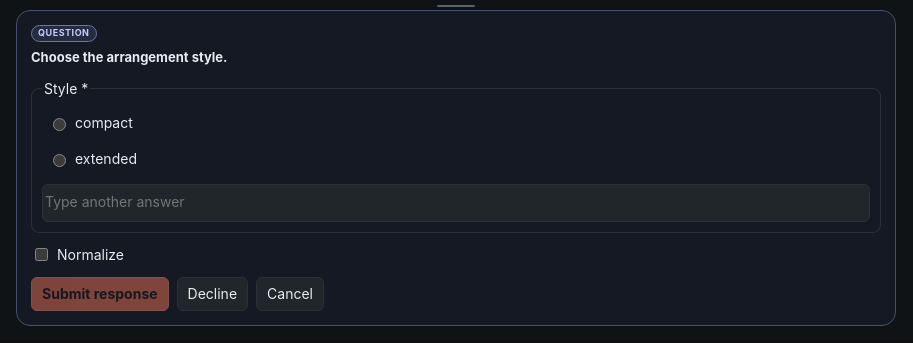
desktop component interactions › prioritizes structured questions and preserves the ordinary composer draft
The width and height of the screenshot is (913, 343).
Expected: the field named "Custom answer for Style" is shown, [42,184,870,222]
Click the radio button labelled "compact": (60, 125) [53,118,66,131]
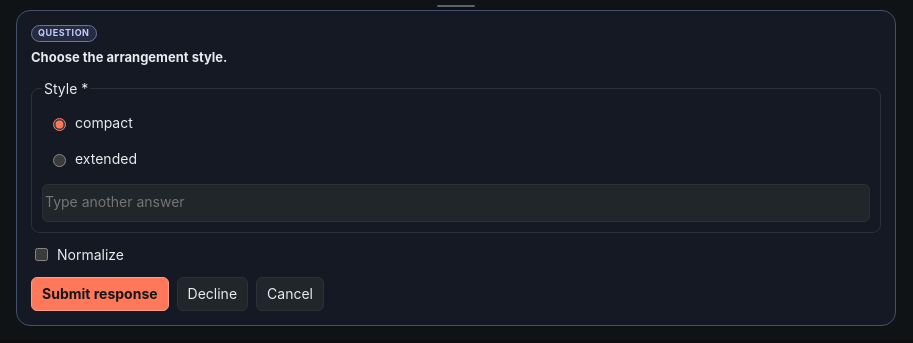
Click the button "Submit response": (100, 294) [31,277,169,311]
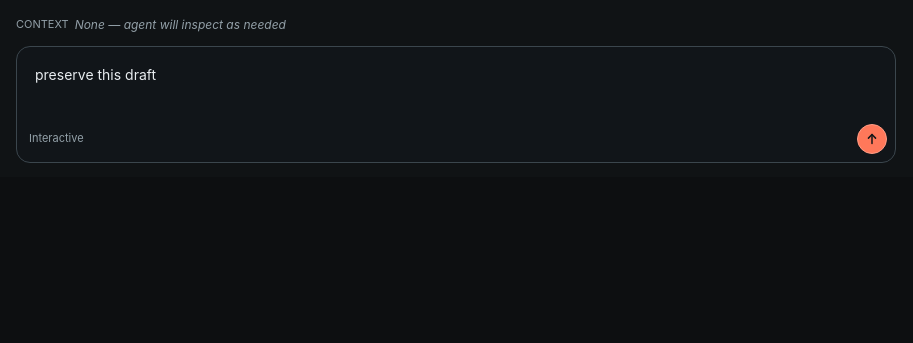
Expected: the text box holds "preserve this draft", [25,55,887,116]
